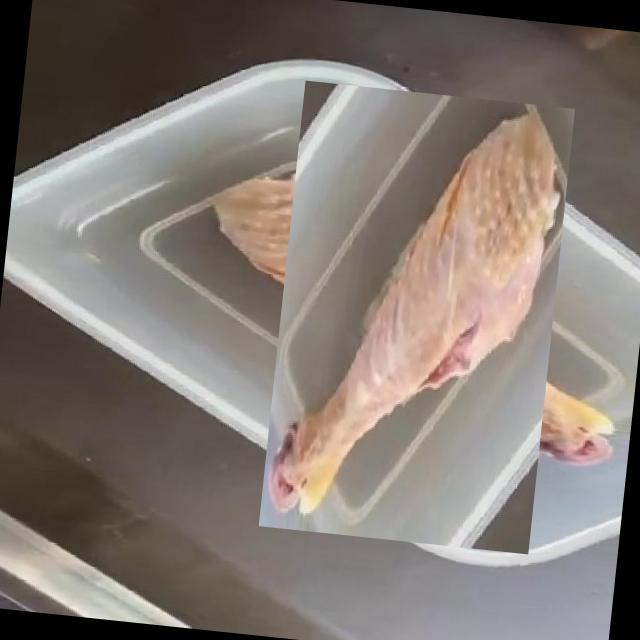chicken: (219, 119, 615, 515)
